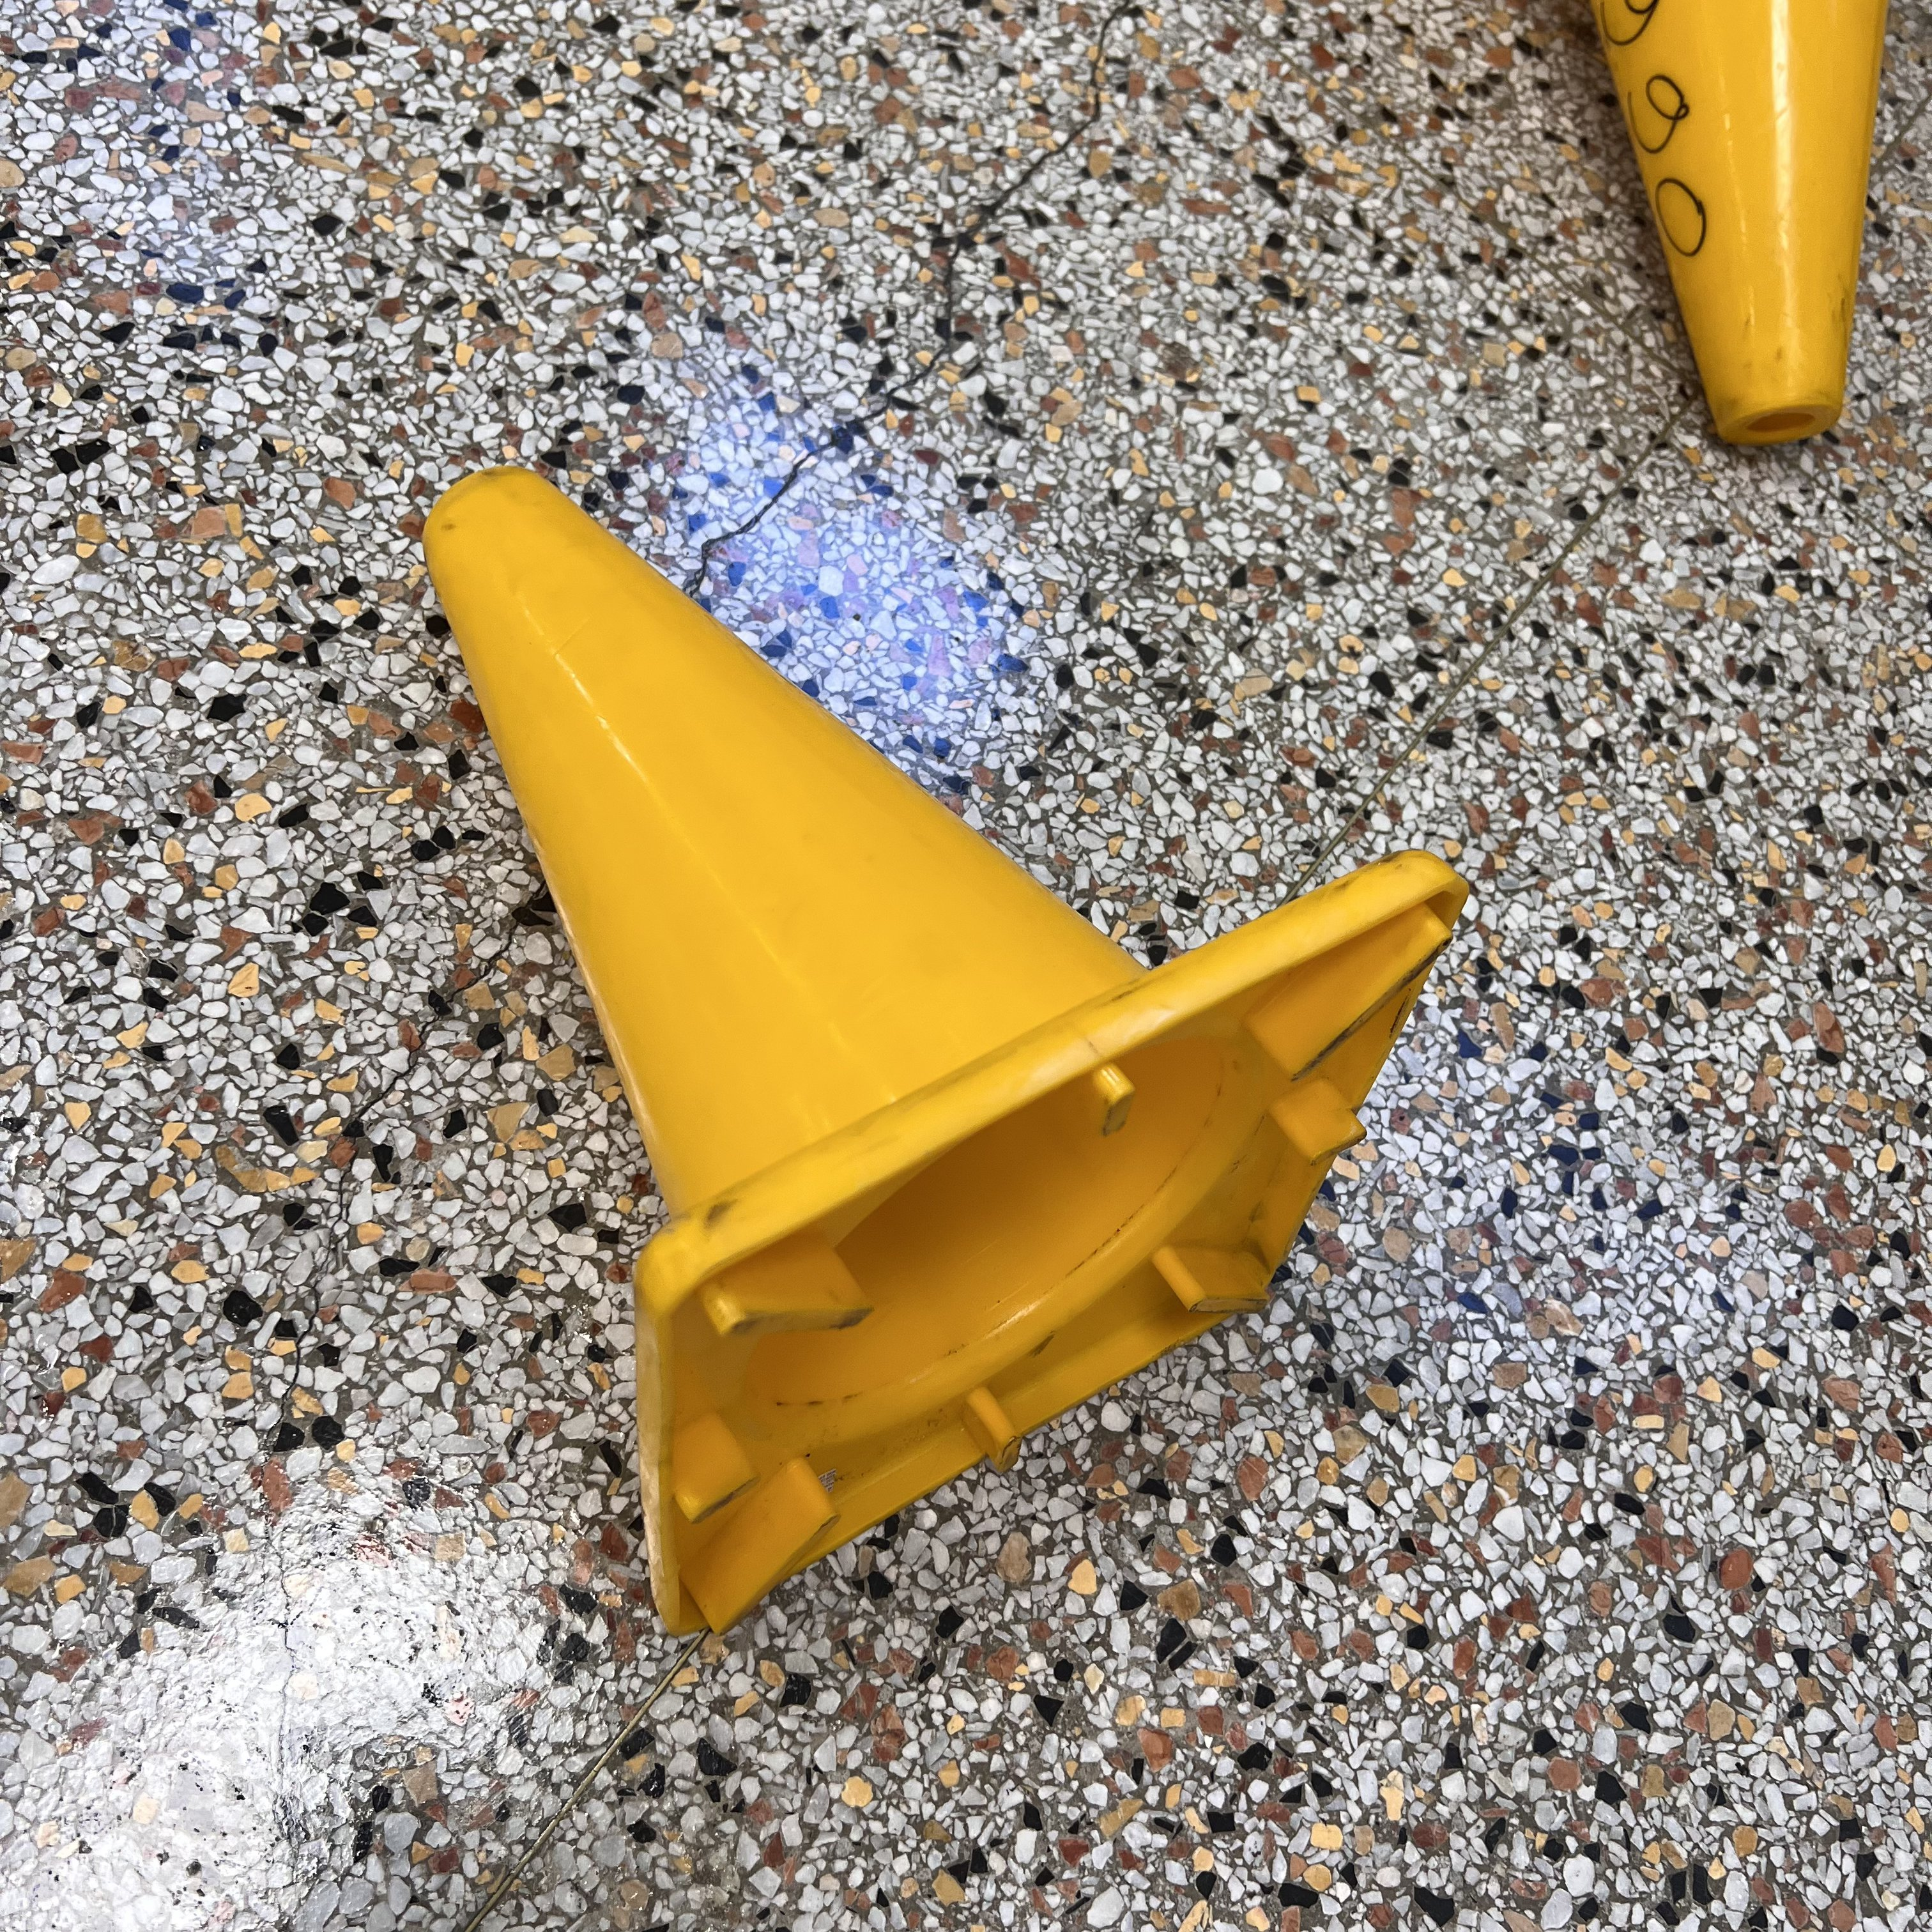cone: (423, 465, 1470, 1638), (1587, 0, 1891, 448)
